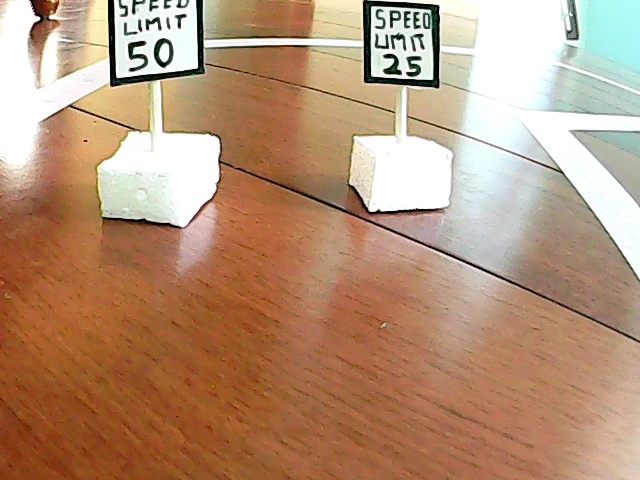speed_25: (343, 1, 462, 211)
speed_50: (91, 1, 228, 217)
